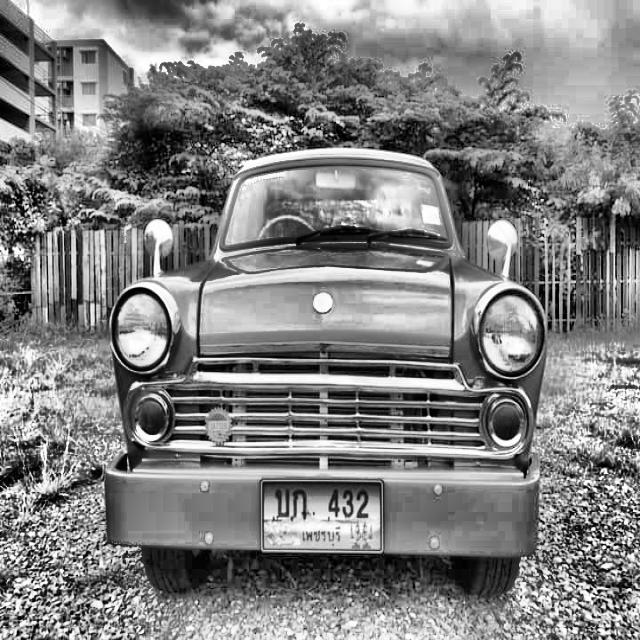license-plate: (259, 476, 385, 557)
